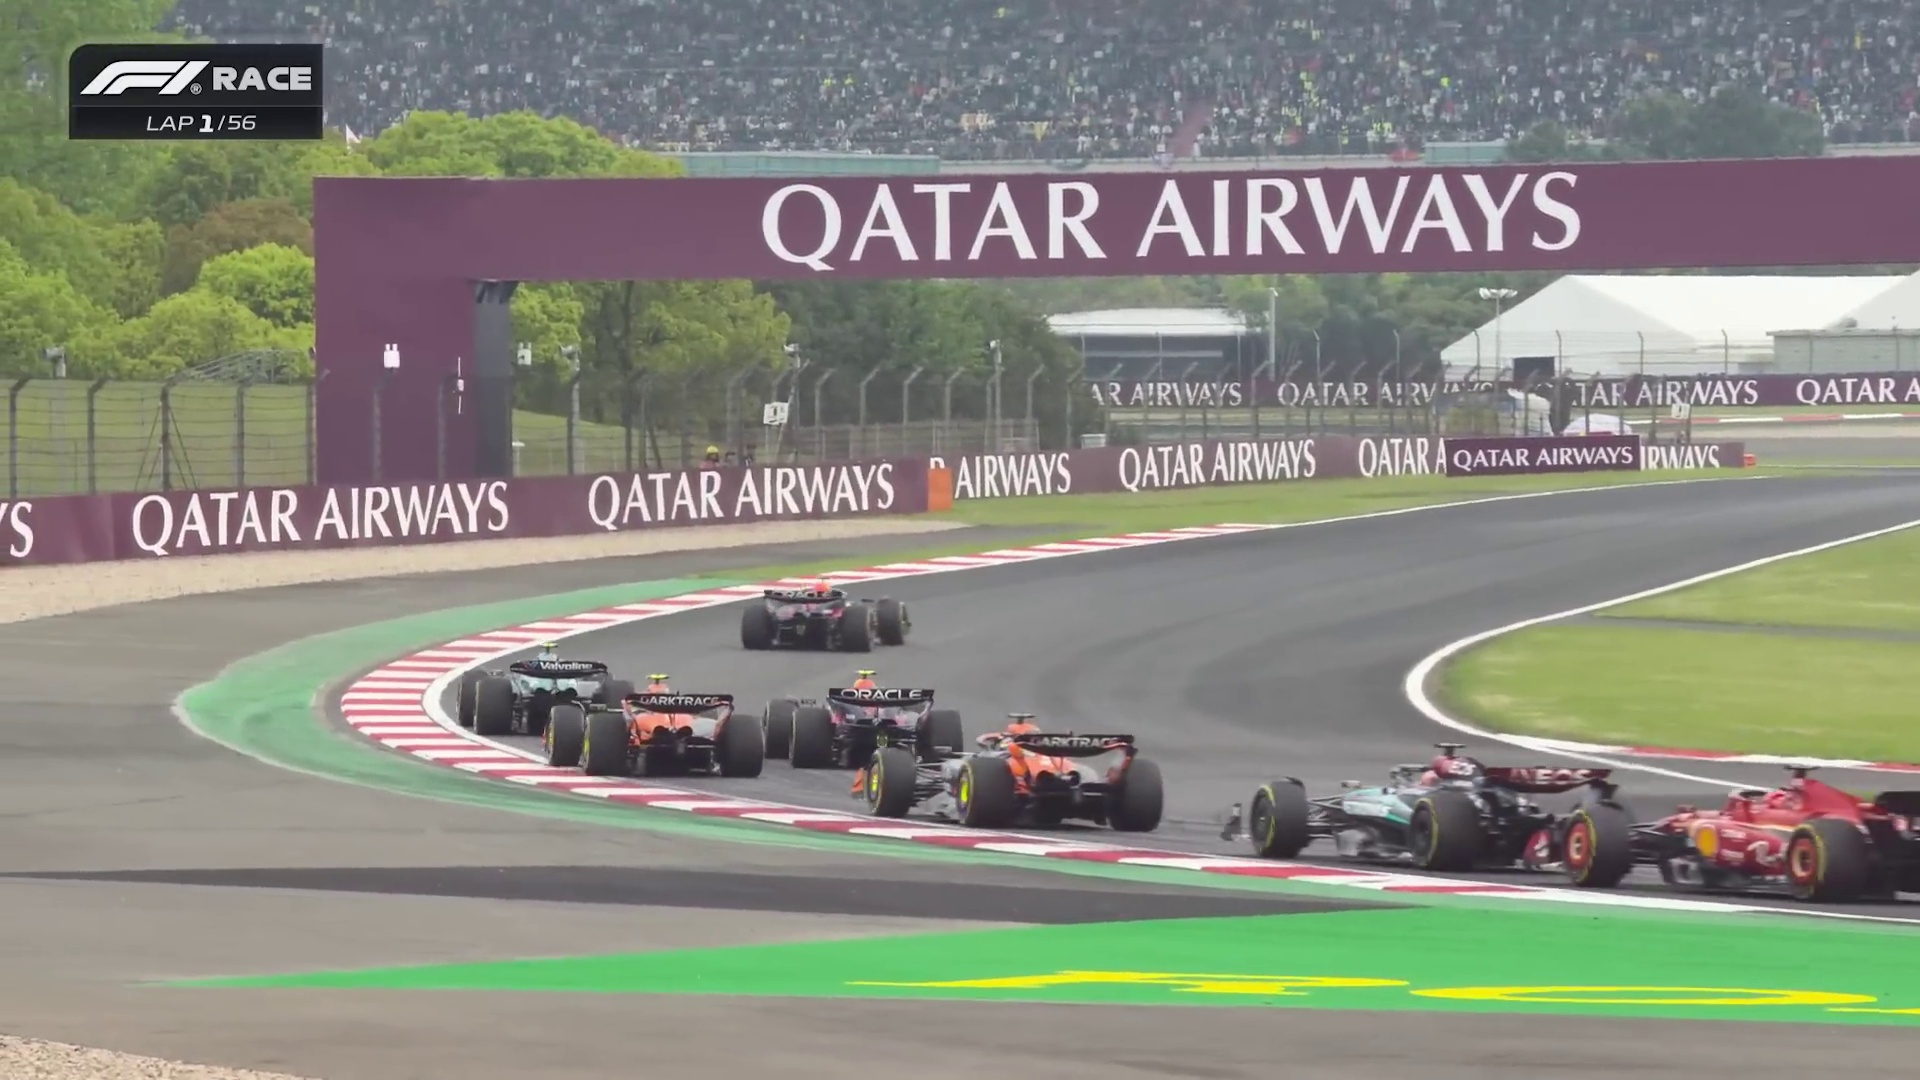AstonMartin: (451, 647, 626, 728)
Ferrari: (1553, 771, 1916, 890)
Mclaren: (865, 727, 1162, 820), (550, 691, 764, 782)
Mercedes: (1225, 766, 1615, 855)
RedBull: (771, 684, 956, 760), (746, 588, 909, 651)
